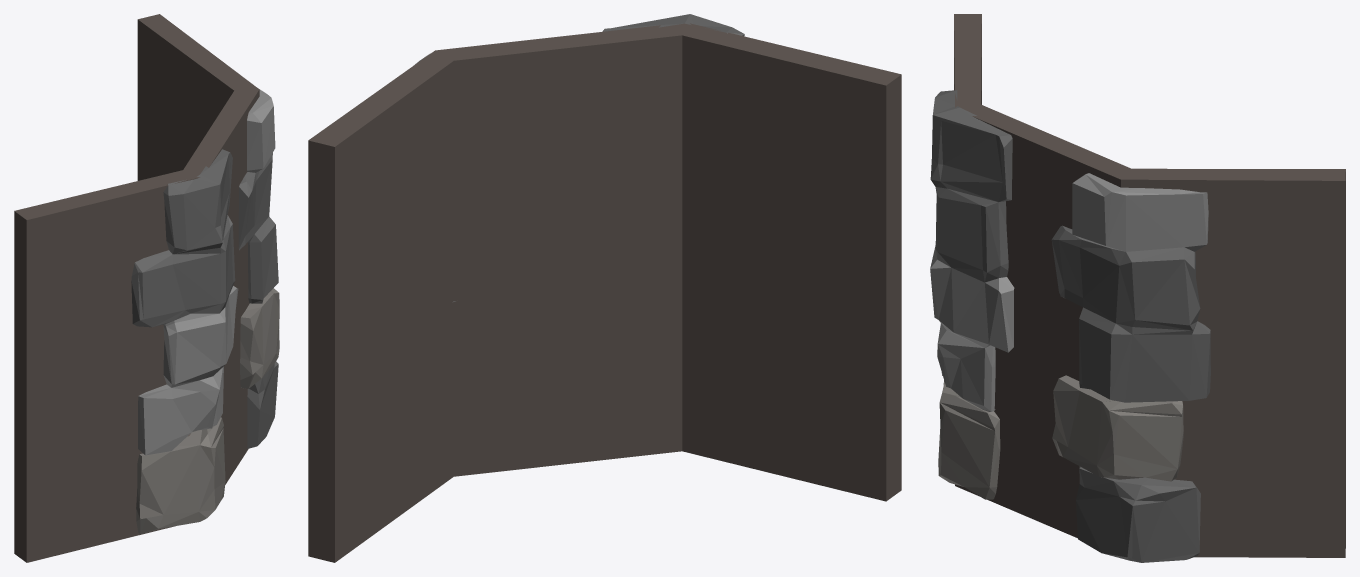
Rendered from MCastle_OctWalls_Base.FBX.
3 views of the same model, side by side, from view 1: azimuth 30°, elevation 25°; view 2: azimuth 150°, elevation 25°; view 3: azimuth 270°, elevation 25° (orthographic). The views are drawn at different scales.
Visible parts, largest first — view 1: MCastle_OctWalls_Base_LOD0; view 2: MCastle_OctWalls_Base_LOD0; view 3: MCastle_OctWalls_Base_LOD0.
Boxes of the visible parts, x1,y1,x2,y2 form: MCastle_OctWalls_Base_LOD0: [14, 14, 279, 562]; MCastle_OctWalls_Base_LOD0: [308, 14, 901, 562]; MCastle_OctWalls_Base_LOD0: [930, 14, 1345, 562].
Size of what is drawn, in the model's own units: 4.54 by 4.47 by 4.46.
